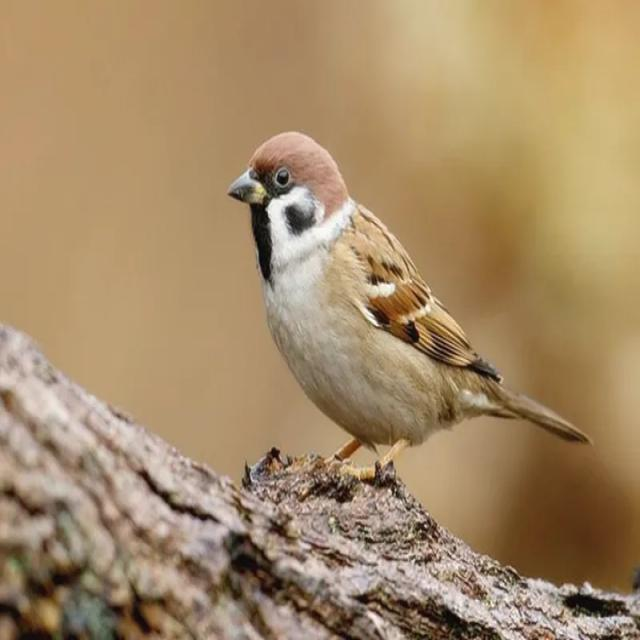bird: (231, 112, 582, 563)
